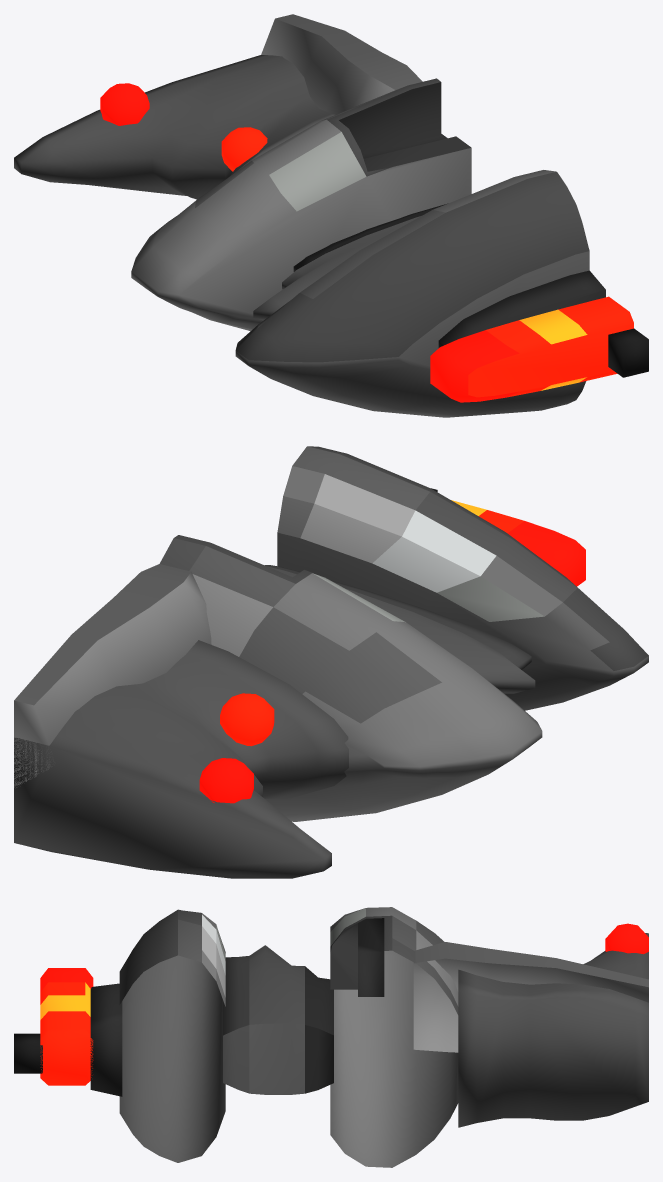
The model's file is newshl-77.glb.
The picture shows the model from 3 angles, top to bottom: view 1: azimuth 30°, elevation 25°; view 2: azimuth 150°, elevation 25°; view 3: azimuth 270°, elevation 25°; orthographic projection. The views are drawn at different scales.
Parts seen in each view (by area): view 1: newshl-77; view 2: newshl-77; view 3: newshl-77.
Part boxes in pixels (x1=…): newshl-77: x1=14, y1=14, x2=648, y2=417; newshl-77: x1=14, y1=446, x2=648, y2=878; newshl-77: x1=14, y1=907, x2=648, y2=1167.
Bounding box in the file's own units: 0.9994 × 0.7549 × 2.
